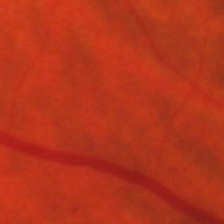MA: (72, 206, 79, 213)
